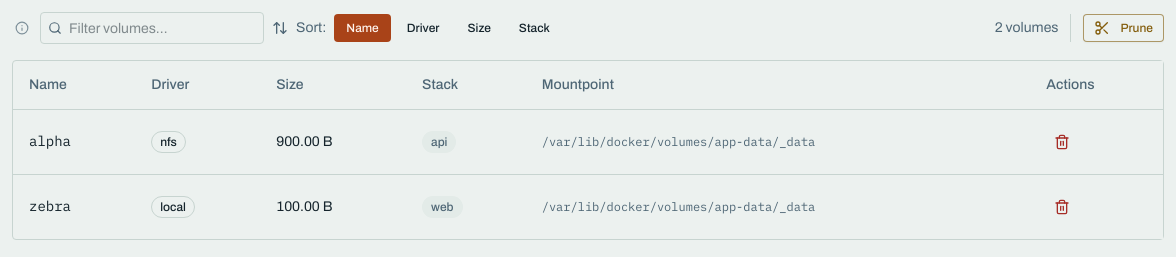
Scenario: VolumesTab — filtering and sorting › filters on the volume name
The width and height of the screenshot is (1176, 257).
In the field with placeholder "Filter volumes…": point(152, 28) [40,12,264,44], type "alpha"
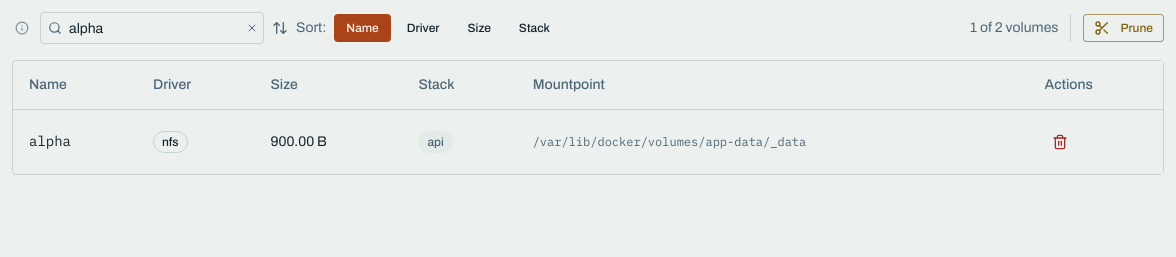
expect the text "alpha" is shown: met, box [29,132,71,150]
expect the text "zebra" is gone: met
